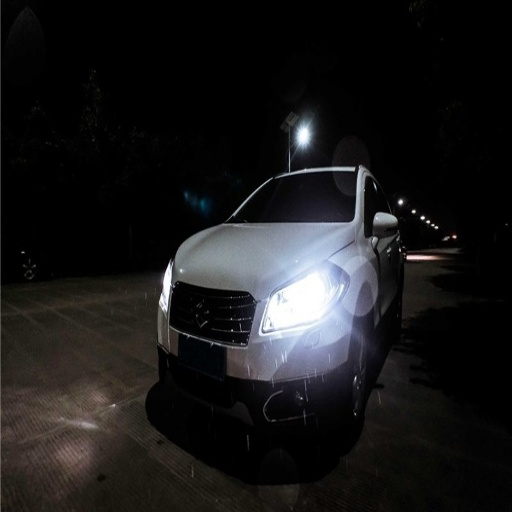front_bumper: (157, 273, 367, 443)
front_glass: (232, 171, 356, 223)
front_left_door: (363, 177, 391, 283)
